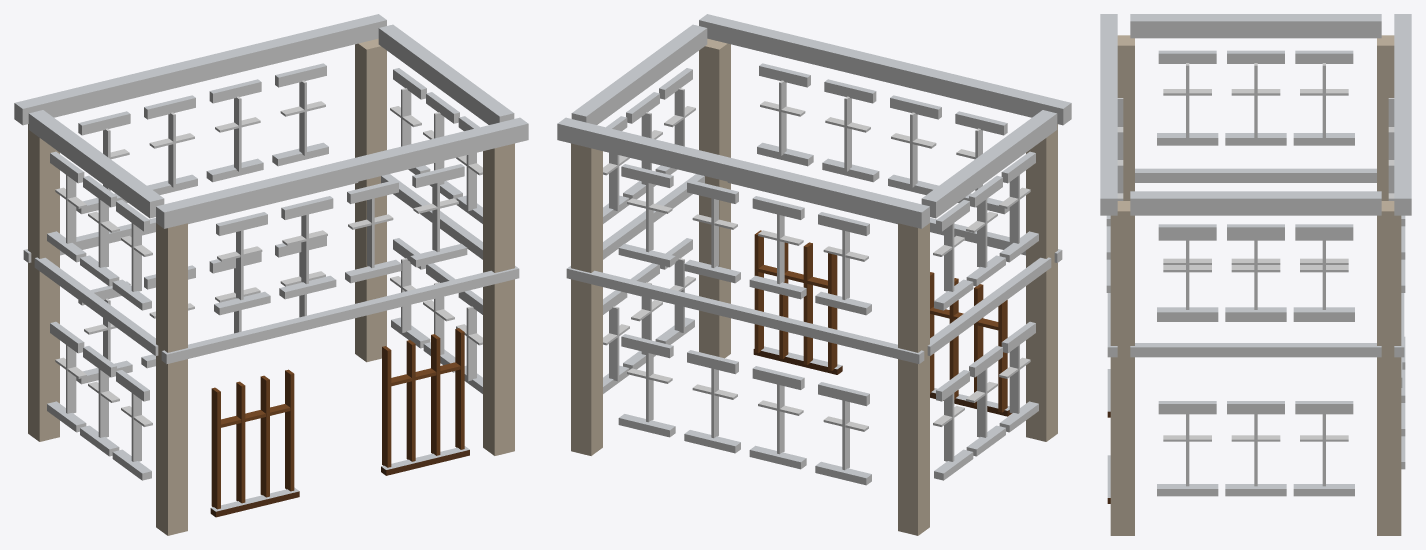
Rendered from Shop_Bakery_Trim.glb.
3 renders of one model, left to right at view 1: azimuth 30°, elevation 25°; view 2: azimuth 150°, elevation 25°; view 3: azimuth 270°, elevation 25°, orthographic. The views are drawn at different scales.
Parts seen in each view (by area): view 1: Shop_Bakery_Trim; view 2: Shop_Bakery_Trim; view 3: Shop_Bakery_Trim.
Boxes of the visible parts, x1=… form: Shop_Bakery_Trim: x1=14, y1=14, x2=528, y2=535; Shop_Bakery_Trim: x1=557, y1=14, x2=1071, y2=535; Shop_Bakery_Trim: x1=1100, y1=14, x2=1411, y2=535.
Bounding box in the file's own units: 27.8 × 24 × 19.8.
